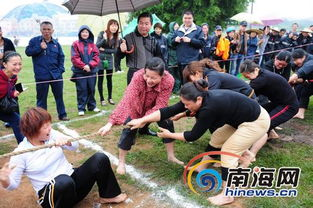10+: (1, 11, 313, 197)
down: (1, 109, 123, 204)
